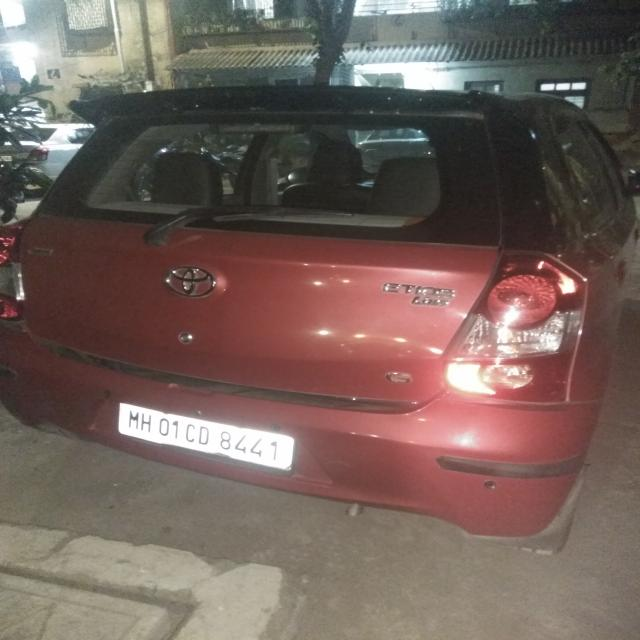Number-Plate: (122, 405, 293, 466)
